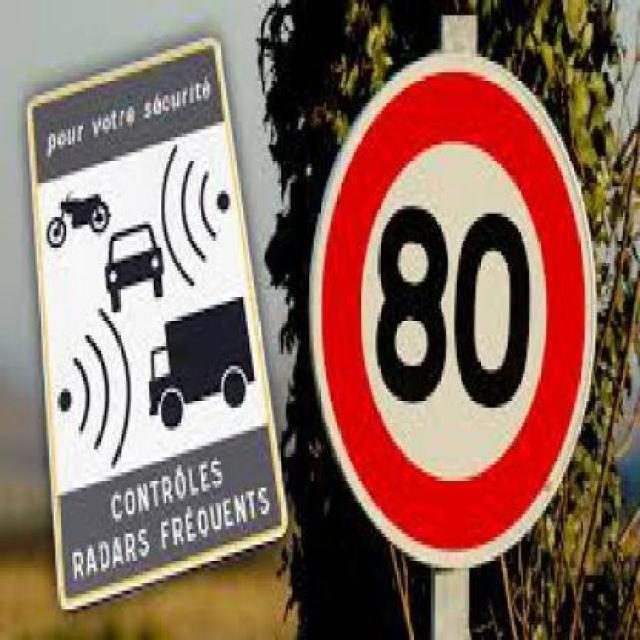forb_speed_over_80: (319, 63, 588, 557)
